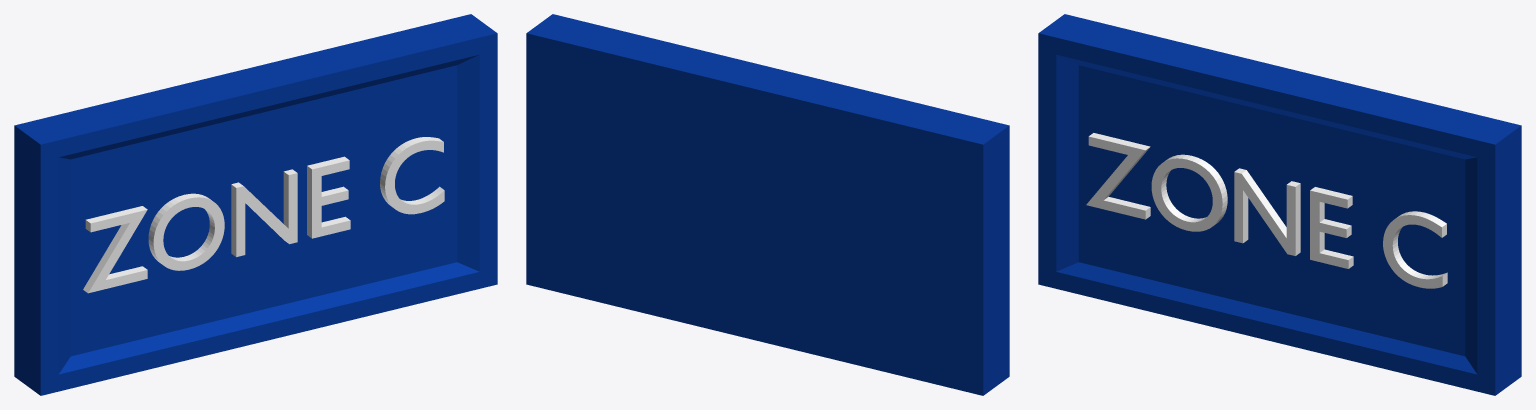
Rendered from ZoneC Panel.fbx.
3 renders of one model, left to right at view 1: azimuth 30°, elevation 25°; view 2: azimuth 150°, elevation 25°; view 3: azimuth 330°, elevation 25°, orthographic.
Parts seen in each view (by area): view 1: Cube.002; view 2: Cube.002; view 3: Cube.002.
Part boxes in pixels (bbox=[...]): Cube.002: bbox=[14, 14, 497, 395]; Cube.002: bbox=[526, 14, 1009, 395]; Cube.002: bbox=[1038, 14, 1521, 395].
Bounding box in the file's own units: 274 × 144 × 27.36.
